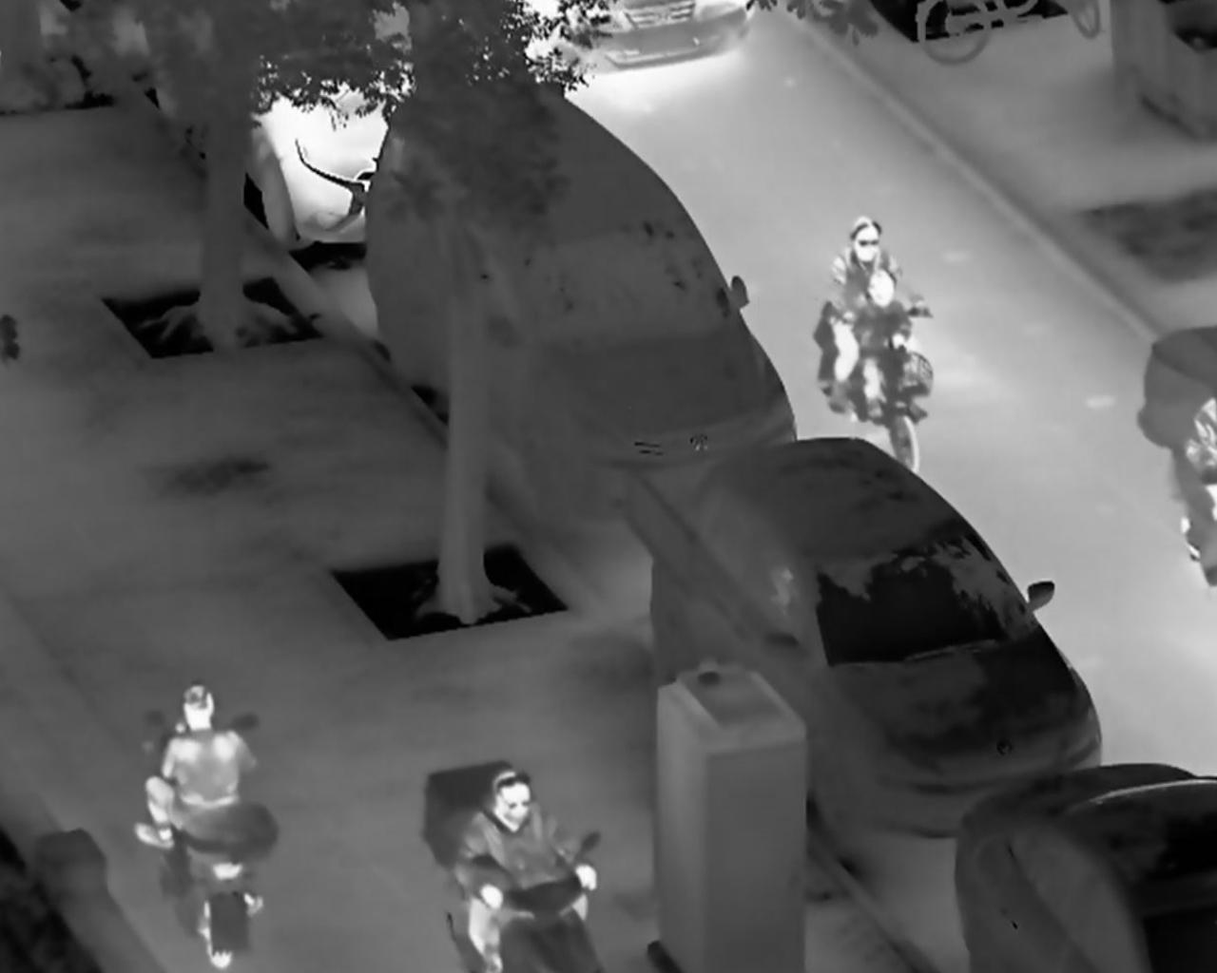person: (452, 769, 599, 971), (825, 214, 933, 419), (137, 682, 262, 854)
